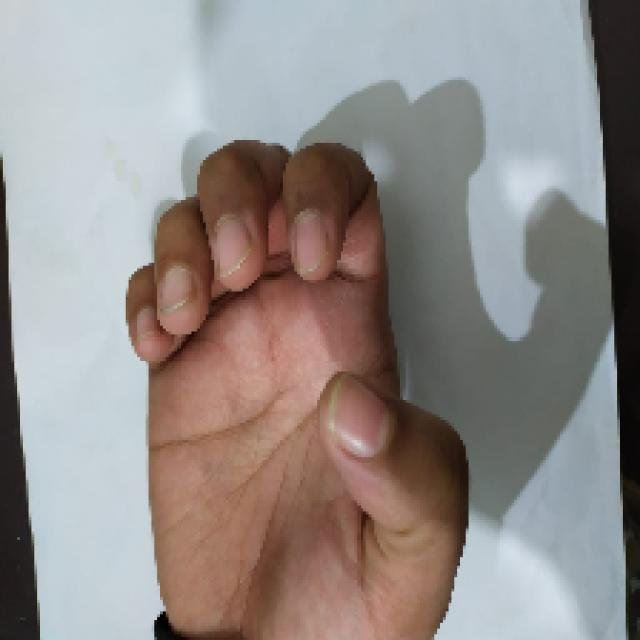Nail: (326, 374, 391, 458), (294, 209, 327, 275), (216, 214, 249, 278), (162, 265, 192, 312), (136, 308, 160, 340)
